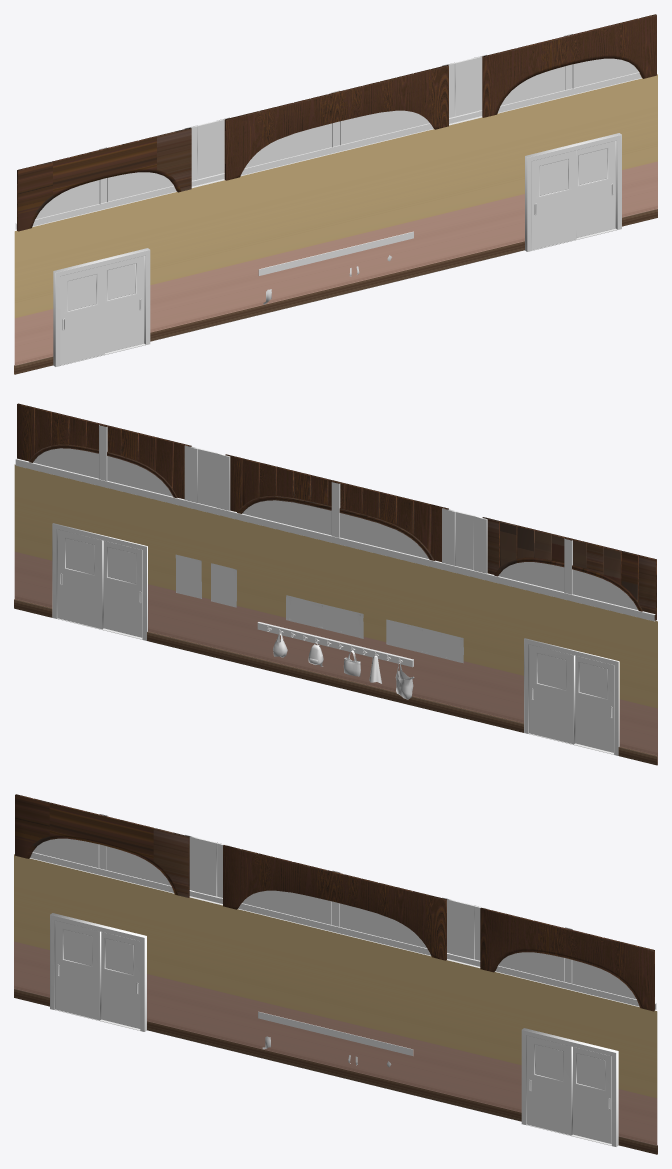
The model's file is a_sch_class2g_hallwaywall01.gltf.
3 renders of one model, top to bottom at view 1: azimuth 30°, elevation 25°; view 2: azimuth 150°, elevation 25°; view 3: azimuth 330°, elevation 25°, orthographic.
Parts seen in each view (by area): view 1: um_a_sch_class2g_hallwaywall01_model_a_sch_class2g_hallwaywa (×5); view 2: um_a_sch_class2g_hallwaywall01_model_a_sch_class2g_hallwaywa (×6); view 3: um_a_sch_class2g_hallwaywall01_model_a_sch_class2g_hallwaywa (×5).
Boxes of the visible parts, box(x1,y1,x2,y2) form: um_a_sch_class2g_hallwaywall01_model_a_sch_class2g_hallwaywa (×5): box(14, 14, 657, 374); um_a_sch_class2g_hallwaywall01_model_a_sch_class2g_hallwaywa (×6): box(14, 403, 657, 765); um_a_sch_class2g_hallwaywall01_model_a_sch_class2g_hallwaywa (×5): box(14, 794, 657, 1154).
Size of the model in its own units: 15 by 4.55 by 0.3971.
Materials: 6 (2 with a texture image).
